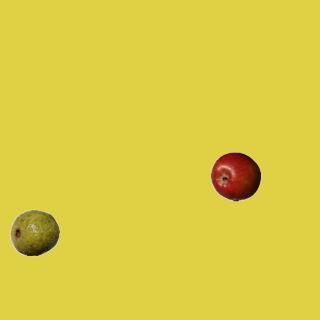Apple Braeburn: (210, 151, 260, 201)
Guava: (9, 207, 59, 257)
